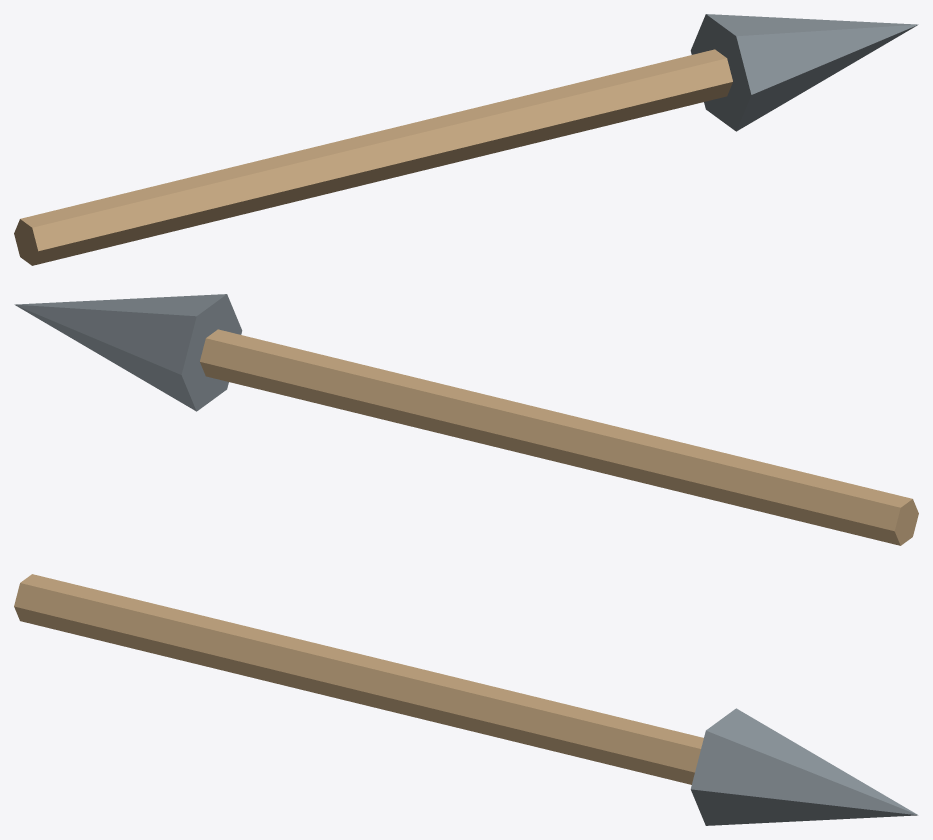
The model's file is item_110_iron_spear_s.glb.
3 views of the same model, one above another, from view 1: azimuth 30°, elevation 25°; view 2: azimuth 150°, elevation 25°; view 3: azimuth 330°, elevation 25° (orthographic).
Parts seen in each view (by area): view 1: item_110_iron_spear_s; view 2: item_110_iron_spear_s; view 3: item_110_iron_spear_s.
Boxes of the visible parts, x1,y1,x2,y2 form: item_110_iron_spear_s: (14, 14, 918, 265); item_110_iron_spear_s: (14, 294, 918, 545); item_110_iron_spear_s: (14, 574, 918, 825).
Size of the model in its own units: 0.7632 by 0.0779 by 0.09.
